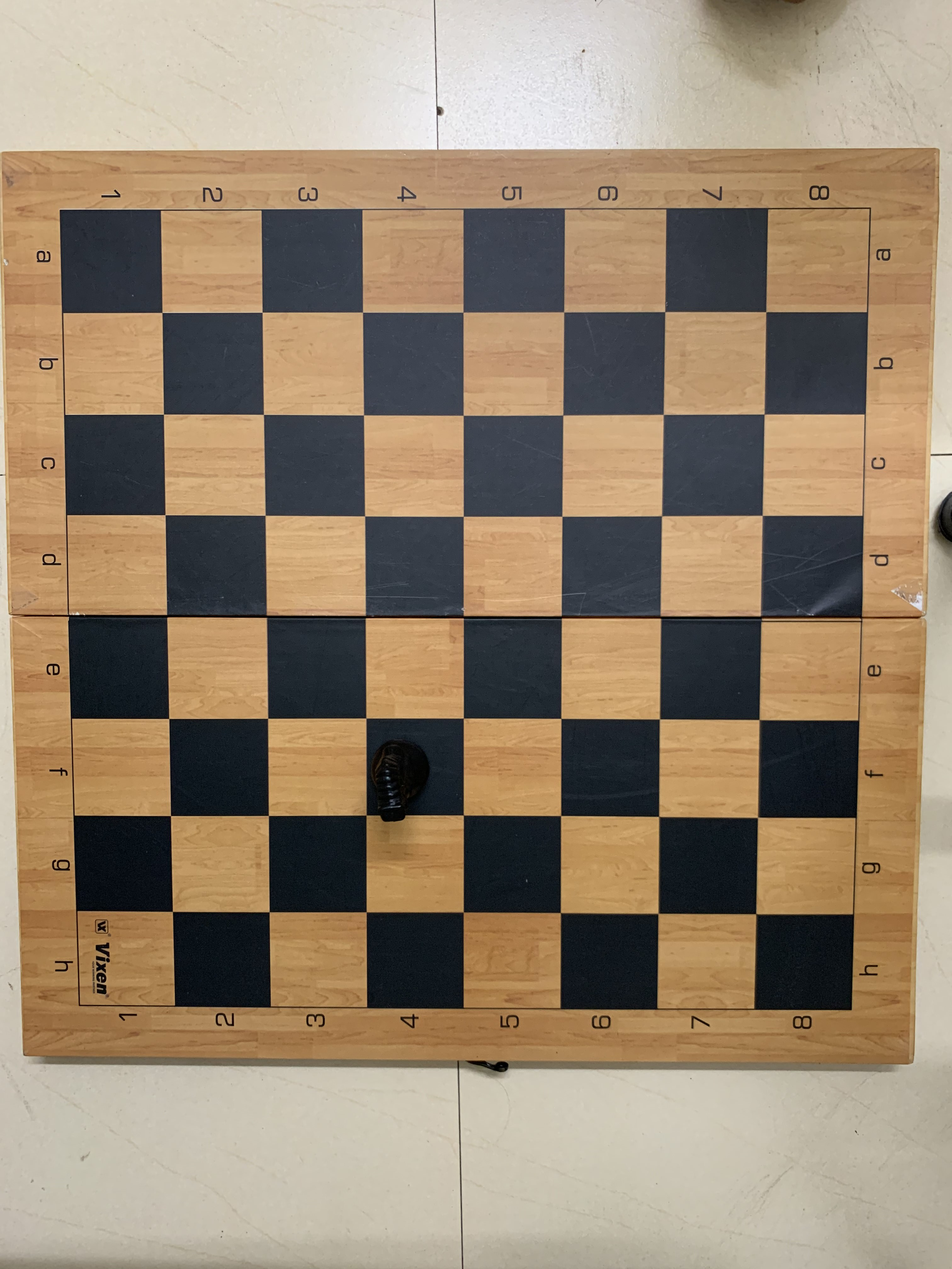black_knight: (366, 721, 466, 826)
